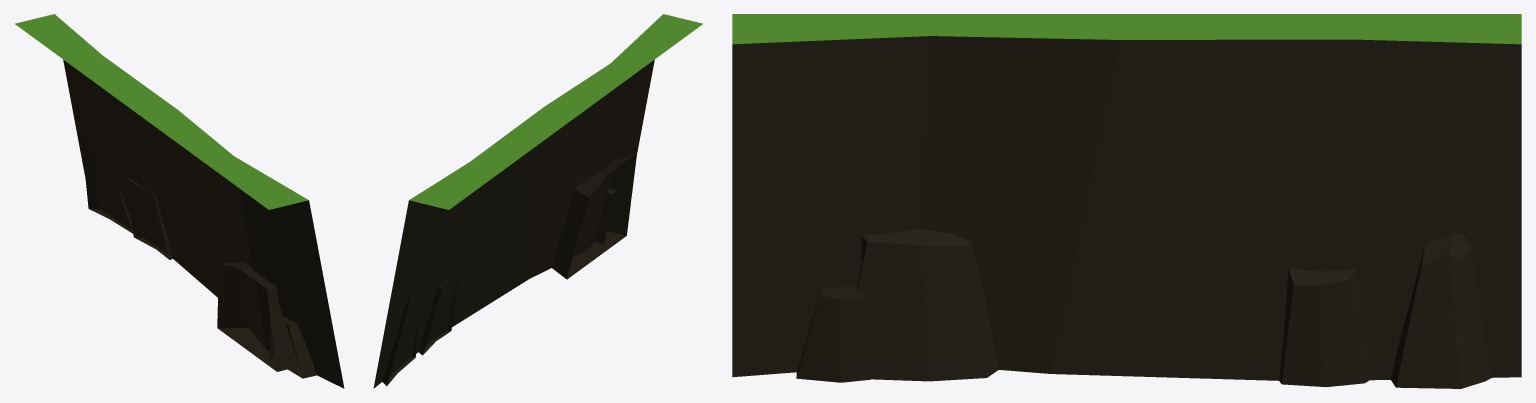
Rendered from CliffA.fbx.
3 views of the same model, side by side, from view 1: azimuth 30°, elevation 25°; view 2: azimuth 150°, elevation 25°; view 3: azimuth 270°, elevation 25° (orthographic). The views are drawn at different scales.
Parts seen in each view (by area): view 1: CliffA; view 2: CliffA; view 3: CliffA.
Part boxes in pixels (left/top/right/bottom): CliffA: left=15, top=14, right=344, bottom=388; CliffA: left=373, top=14, right=702, bottom=388; CliffA: left=732, top=14, right=1521, bottom=388.
Size of the model in its own units: 103 by 214 by 500.
